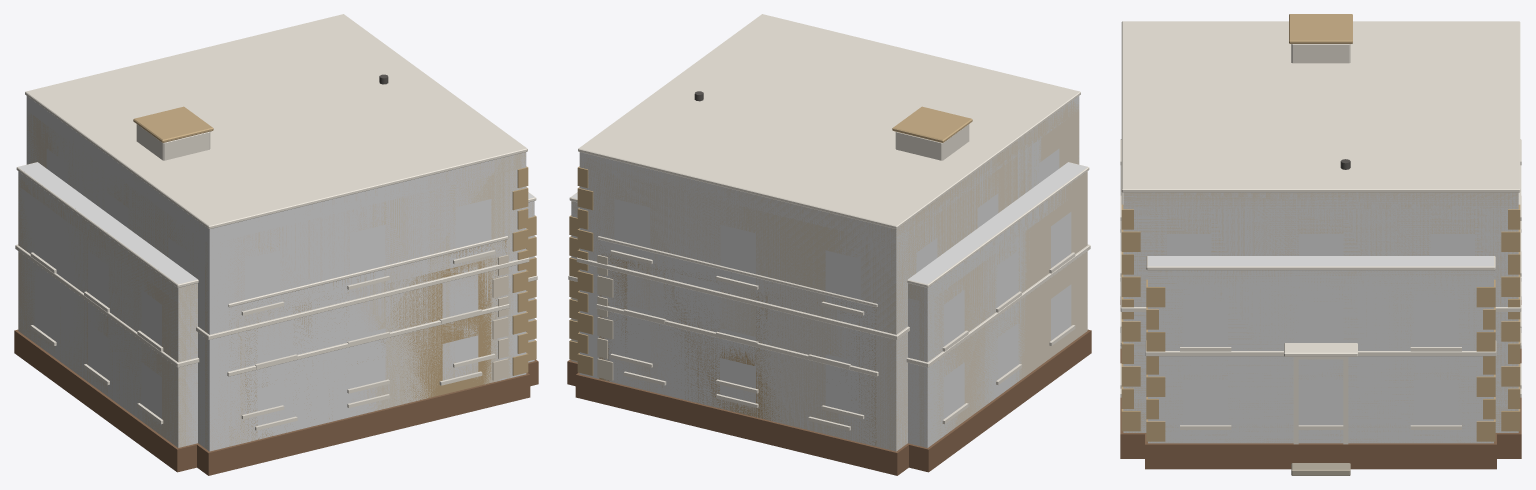
The picture shows the model from 3 angles, left to right: view 1: azimuth 30°, elevation 25°; view 2: azimuth 150°, elevation 25°; view 3: azimuth 270°, elevation 25°; orthographic projection. The views are drawn at different scales.
Parts seen in each view (by area): view 1: T07, col_T07_0, col_T07_2, col_T07_1; view 2: T07, col_T07_0, col_T07_1, col_T07_2; view 3: T07, col_T07_2, col_T07_0.
Part boxes in pixels (bbox=[...]): T07: bbox=[14, 14, 538, 475]; col_T07_0: bbox=[26, 96, 526, 451]; col_T07_2: bbox=[18, 162, 534, 447]; col_T07_1: bbox=[229, 240, 506, 446]; T07: bbox=[567, 14, 1091, 475]; col_T07_0: bbox=[579, 96, 1079, 451]; col_T07_1: bbox=[599, 240, 876, 446]; col_T07_2: bbox=[571, 162, 1087, 447]; T07: bbox=[1120, 14, 1521, 475]; col_T07_2: bbox=[1148, 256, 1493, 443]; col_T07_0: bbox=[1123, 192, 1518, 432].
Size of the model in its own units: 9.56 by 6.53 by 8.12.
